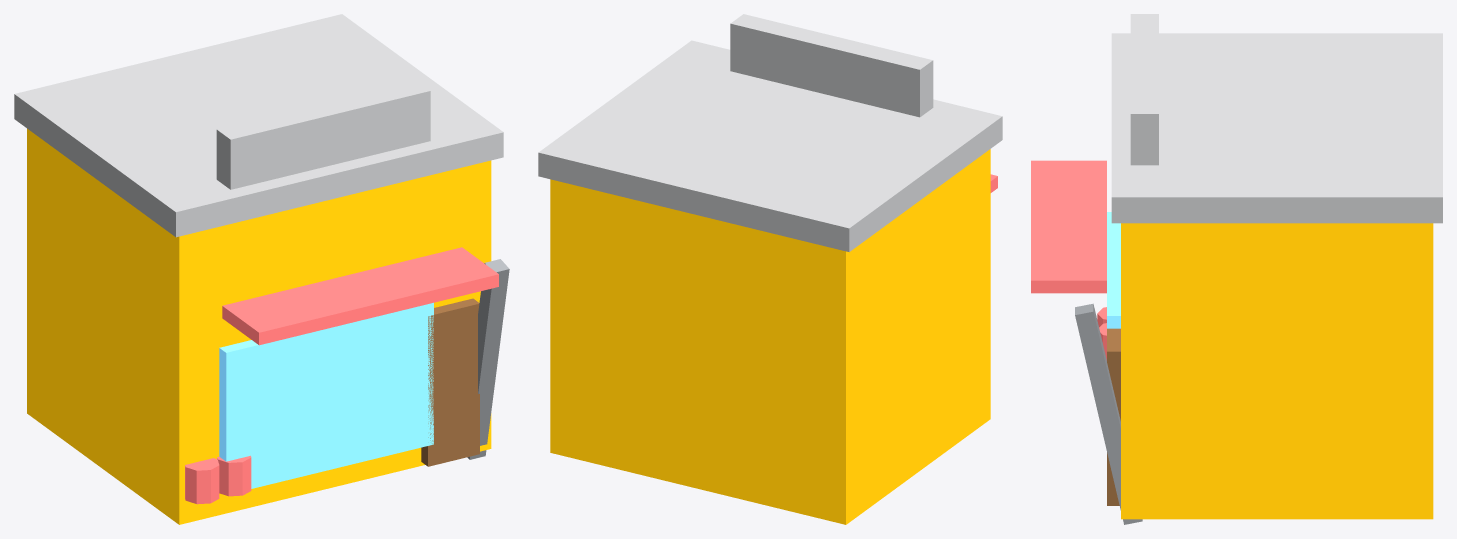
The model's file is hardware.glb.
3 views of the same model, side by side, from view 1: azimuth 30°, elevation 25°; view 2: azimuth 150°, elevation 25°; view 3: azimuth 270°, elevation 25° (orthographic). The views are drawn at different scales.
Visible parts, largest first — view 1: hardware; view 2: hardware; view 3: hardware.
Part boxes in pixels (x1=…): hardware: x1=14, y1=14, x2=509, y2=524; hardware: x1=538, y1=14, x2=1002, y2=524; hardware: x1=1031, y1=14, x2=1442, y2=524.
Bounding box in the file's own units: 0.82 × 0.8976 × 0.87.
